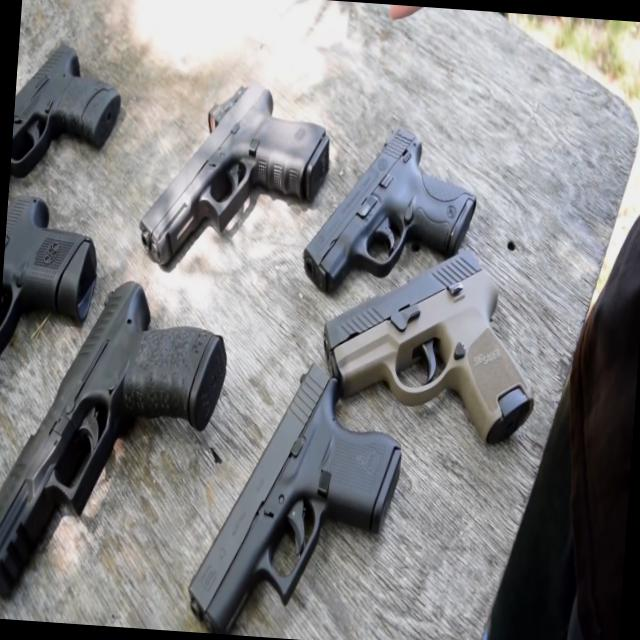handgun: (0, 274, 240, 593), (187, 357, 407, 639), (131, 61, 360, 294), (310, 229, 536, 440), (296, 120, 490, 328), (9, 37, 134, 199)
